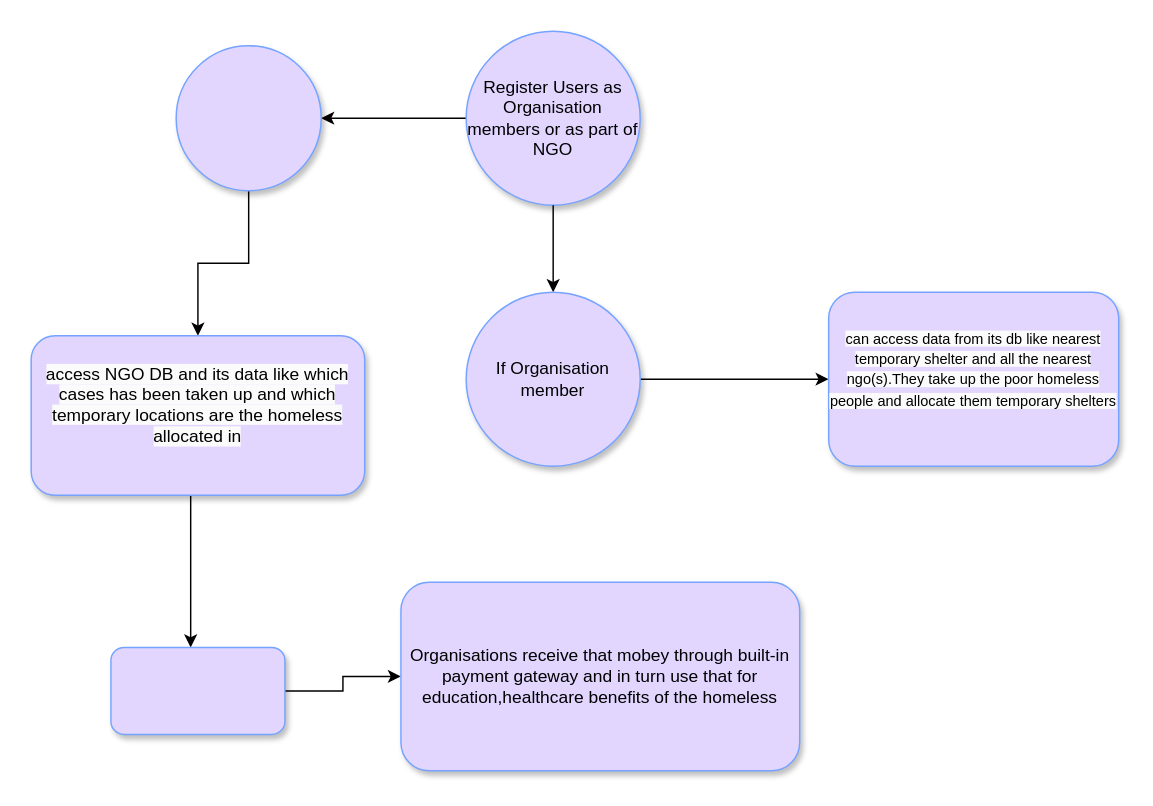
This 1153x806 diagram has some shape labels left out. The centre of each missing label's shape, as x and y in pixels:
Can also donate to the organisations: (199,692)
If NGO member: (249,119)
